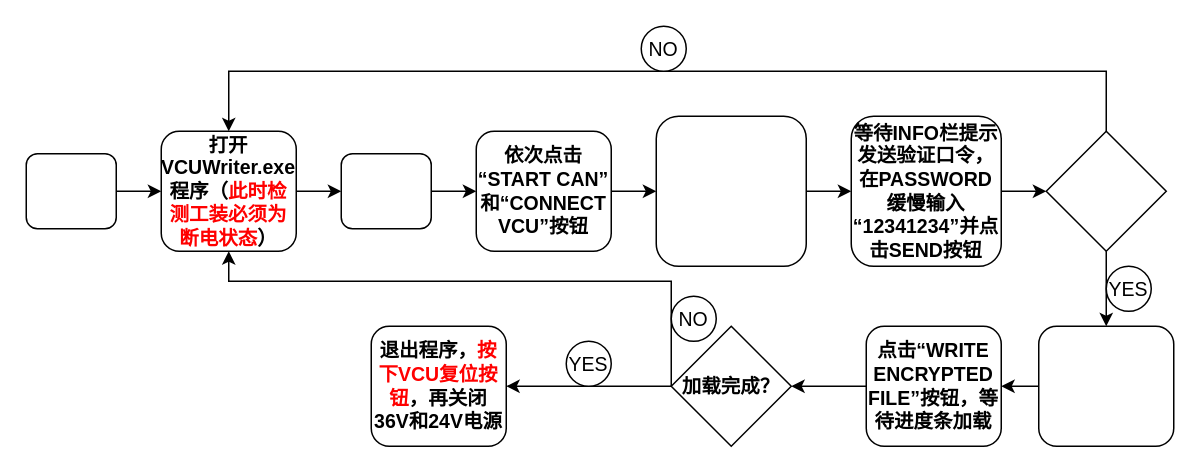
The diagram is 1200 pixels wide and 473 high, and some of its shapes have lost their labels. Here are the shapes that lost their labels. From the top down, the box of each, then its label:
(25, 152, 116, 229): 开始
(340, 152, 431, 229): 弹窗点击确定
(655, 115, 806, 266): INFO栏提示给目标板上电，此时再打开工装36V和24V电源，并 按下VCU复位按钮
(1045, 130, 1166, 251): 密码通过？
(1037, 325, 1174, 446): 点击“CHOOSE ENCRYPTED FILE”按钮并选择***.VCU文件
